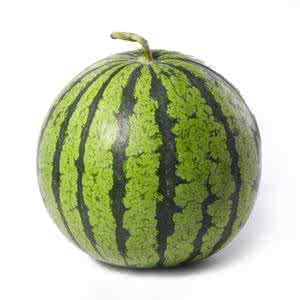watermelon: (36, 36, 270, 274)
